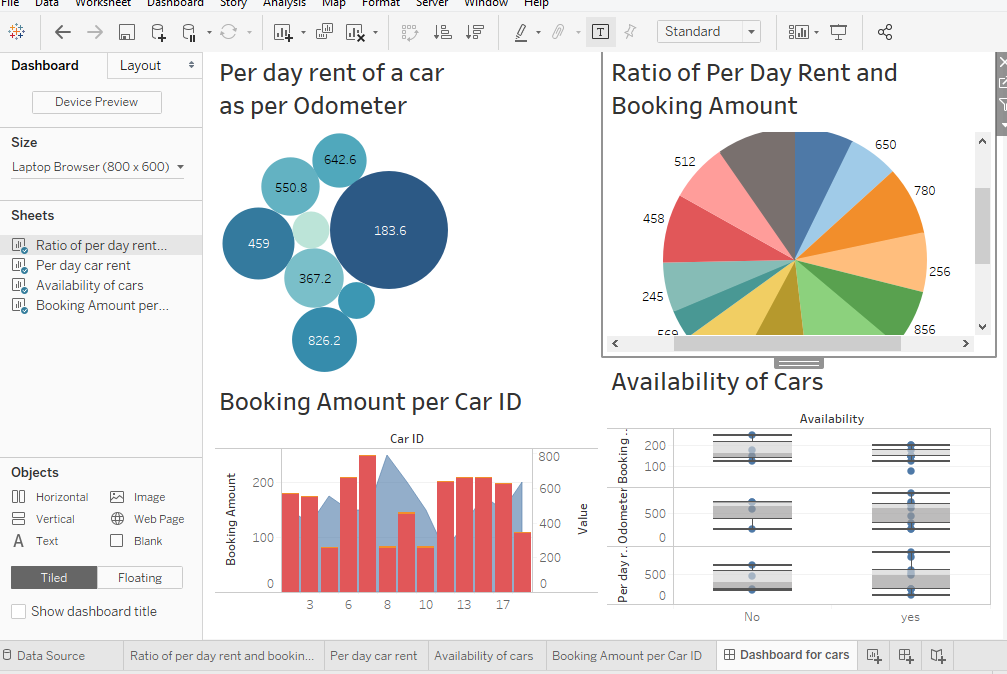

This screenshot's page, from the dashboard's own definition file:
{"tool":"tableau","page":{"name":"Dashboard for cars","canvas":[1000,800],"ordinal":0},"visuals":[{"type":"worksheet","title":"Per day car rent","mark":"Circle","box":[8,8,492,441.7]},{"type":"worksheet","title":"Ratio of per day rent and booking amount","mark":"Pie","box":[500,8,492,414.8]},{"type":"worksheet","title":"Availability of cars","mark":"Circle","rows":["Booking Amount","Odometer","Per day rent"],"cols":["Availability"],"box":[500,422.8,492,369.2]},{"type":"worksheet","title":"Booking Amount per Car ID","mark":"Bar","rows":["Booking Amount"],"cols":["Car_ID"],"box":[8,449.7,492,342.3]}]}

Visuals, with their boxes on the page's 1000x800 design canvas (x1, y1, x2, y2). These are canvas units, not pixel positions in the 1007x674 screenshot, which may show the page scaled, cropped or inside an application window:
"Per day car rent" worksheet (Circle marks): (x1=8, y1=8, x2=500, y2=450)
"Ratio of per day rent and booking amount" worksheet (Pie marks): (x1=500, y1=8, x2=992, y2=423)
"Availability of cars" worksheet (Circle marks): (x1=500, y1=423, x2=992, y2=792)
"Booking Amount per Car ID" worksheet (Bar marks): (x1=8, y1=450, x2=500, y2=792)
